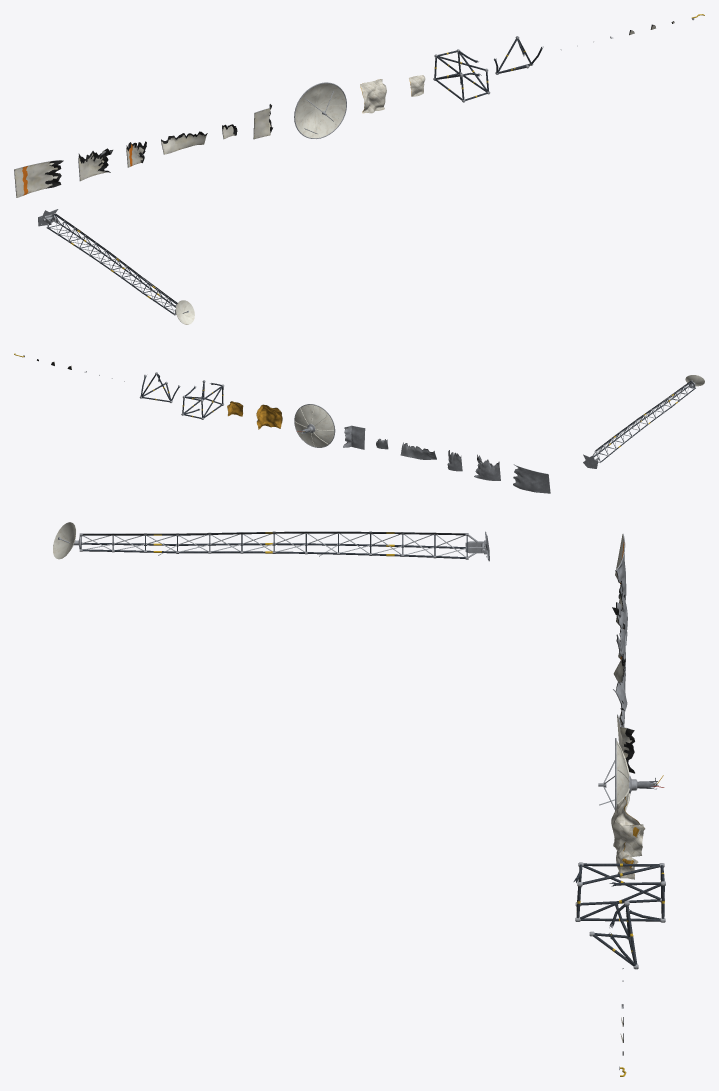
The model's file is debris_kit.glb.
3 views of the same model, one above another, from view 1: azimuth 30°, elevation 25°; view 2: azimuth 150°, elevation 25°; view 3: azimuth 270°, elevation 25° (orthographic). The views are drawn at different scales.
Parts seen in each view (by area): view 1: debris_dish, boom_broken, debris_panel_1, debris_truss_1, debris_blanket_1, debris_panel_2, debris_panel_4, debris_panel_6; view 2: debris_dish, boom_broken, debris_panel_1, debris_truss_1, debris_blanket_1, debris_panel_2, debris_panel_6, debris_panel_4, debris_truss_2, debris_panel_3; view 3: boom_broken, debris_truss_1, debris_blanket_1, debris_dish, debris_truss_2.
Part boxes in pixels (x1=…): debris_dish: x1=294, y1=82, x2=346, y2=138; boom_broken: x1=38, y1=209, x2=194, y2=324; debris_panel_1: x1=14, y1=160, x2=63, y2=197; debris_truss_1: x1=433, y1=49, x2=490, y2=102; debris_blanket_1: x1=360, y1=79, x2=386, y2=113; debris_panel_2: x1=78, y1=148, x2=112, y2=181; debris_panel_4: x1=161, y1=131, x2=207, y2=154; debris_panel_6: x1=253, y1=104, x2=272, y2=139; debris_dish: x1=294, y1=404, x2=335, y2=447; boom_broken: x1=583, y1=375, x2=704, y2=468; debris_panel_1: x1=513, y1=464, x2=550, y2=493; debris_truss_1: x1=181, y1=380, x2=224, y2=419; debris_blanket_1: x1=256, y1=404, x2=282, y2=429; debris_panel_2: x1=474, y1=454, x2=500, y2=480; debris_panel_6: x1=343, y1=425, x2=365, y2=449; debris_panel_4: x1=400, y1=442, x2=436, y2=459; debris_truss_2: x1=139, y1=372, x2=180, y2=402; debris_panel_3: x1=447, y1=450, x2=462, y2=471; boom_broken: x1=53, y1=522, x2=489, y2=561; debris_truss_1: x1=573, y1=862, x2=665, y2=922; debris_blanket_1: x1=611, y1=796, x2=645, y2=857; debris_dish: x1=598, y1=738, x2=664, y2=810; debris_truss_2: x1=589, y1=901, x2=638, y2=969.
Bounding box in the file's own units: 27.32 × 2.03 × 13.18.
8 materials, 8 textured.
